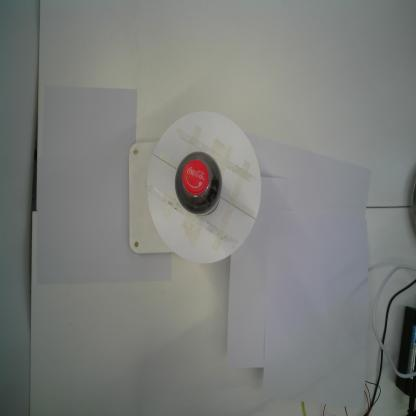Drink: (174, 150, 223, 218)
